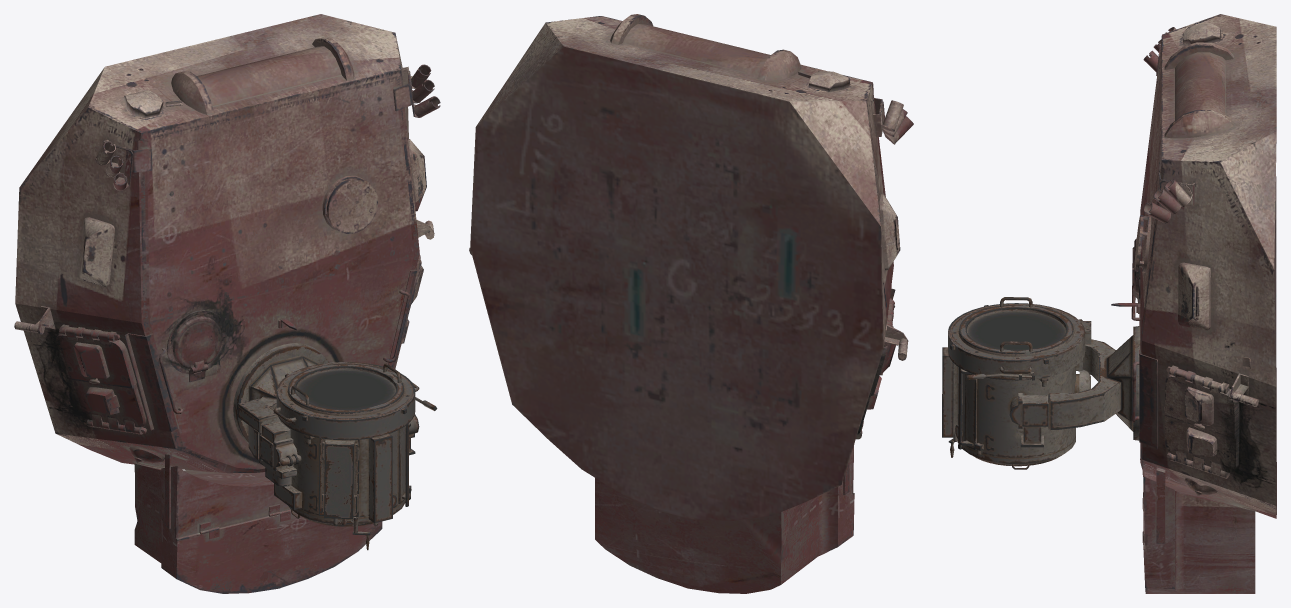
The model's file is Turret_01.glb.
3 views of the same model, side by side, from view 1: azimuth 30°, elevation 25°; view 2: azimuth 150°, elevation 25°; view 3: azimuth 270°, elevation 25° (orthographic). The views are drawn at different scales.
Parts seen in each view (by area): view 1: set_0_group_1, set_0_group_0; view 2: set_0_group_1; view 3: set_0_group_1, set_0_group_0.
Boxes of the visible parts, bbox=[...] form: set_0_group_1: bbox=[14, 14, 440, 593]; set_0_group_0: bbox=[233, 343, 437, 550]; set_0_group_1: bbox=[469, 14, 913, 593]; set_0_group_1: bbox=[1111, 14, 1276, 593]; set_0_group_0: bbox=[942, 297, 1140, 469].
Bounding box in the file's own units: 2.21 × 2.55 × 1.54.
Materials: 2 (2 with a texture image).
